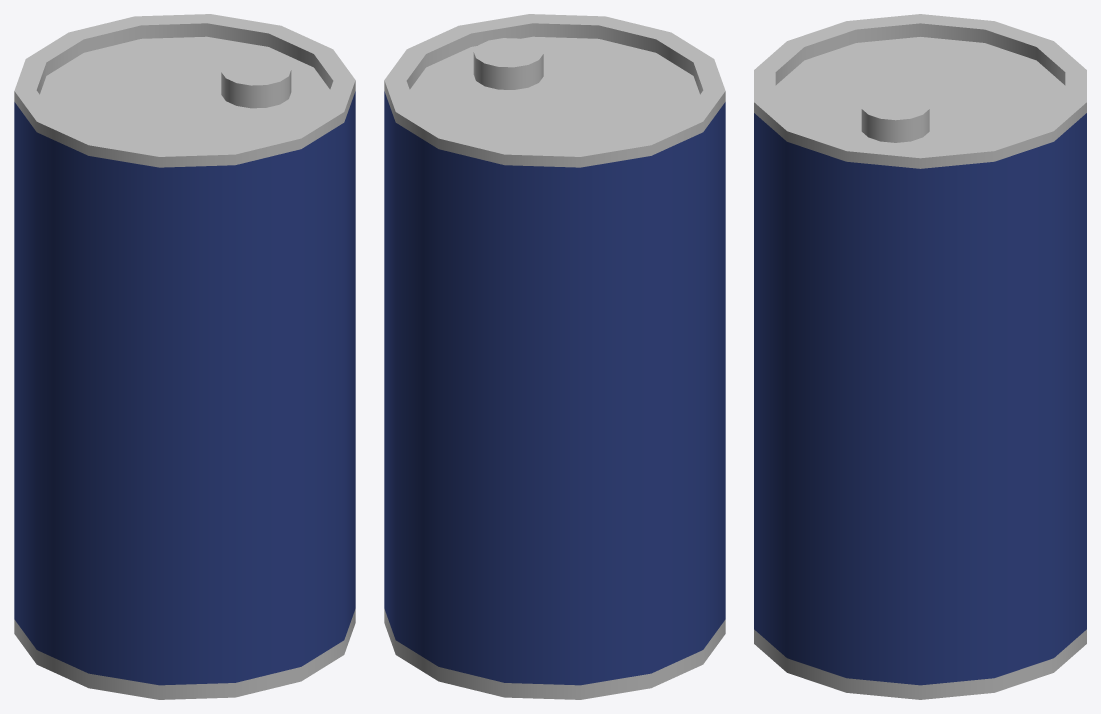
Rendered from Barrel.fbx.
3 renders of one model, left to right at view 1: azimuth 30°, elevation 25°; view 2: azimuth 150°, elevation 25°; view 3: azimuth 270°, elevation 25°, orthographic.
Visible parts, largest first — view 1: Barrel; view 2: Barrel; view 3: Barrel.
Part boxes in pixels (x1,y1,x2,y2): Barrel: [14, 14, 355, 699]; Barrel: [384, 14, 725, 699]; Barrel: [754, 14, 1086, 699].
Bounding box in the file's own units: 170 × 302 × 165.
